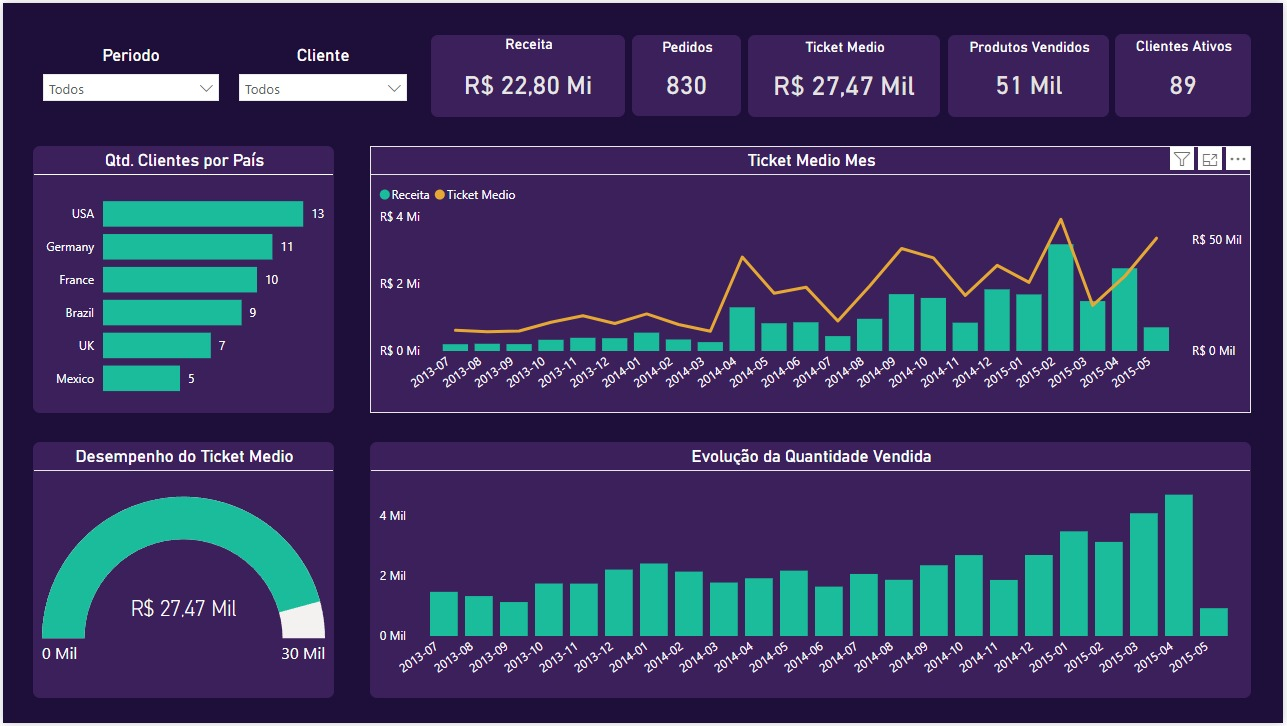

What the dashboard file says about the page in this screenshot:
{"tool":"powerbi","page":{"name":"Página 1","canvas":[1280,720],"ordinal":0},"visuals":[{"type":"card","title":"Receita","fields":{"Values":["order_details.Receita"]},"box":[428,32,194,82],"z":0},{"type":"card","title":"Ticket Medio","fields":{"Values":["order_details.Ticket Medio"]},"box":[745,32,192,82],"z":1000},{"type":"card","title":"Clientes Ativos","fields":{"Values":["orders.Clientes Ativos"]},"box":[1112,31,136,83],"z":2000},{"type":"slicer","title":"Periodo","fields":{"Values":["Calendario.Mes"]},"box":[30,42,196,63],"z":3000},{"type":"card","title":"Produtos Vendidos","fields":{"Values":["order_details.Quantidade"]},"box":[945.3,31.9,160.4,81.9],"z":4000},{"type":"slicer","title":"Cliente","fields":{"Values":["categories.categoryName"]},"box":[226,42,188,63],"z":5000},{"type":"card","title":"Pedidos","fields":{"Values":["orders.Pedidos"]},"box":[629,32,109,81],"z":6000},{"type":"barChart","title":"Qtd. Clientes por País","fields":{"Category":["customers.country"],"Y":["orders.Clientes Ativos"]},"box":[30,143,301,267],"z":7000},{"type":"lineStackedColumnComboChart","title":"Ticket Medio Mes","fields":{"Category":["Calendario.Mes"],"Y":["order_details.Receita"],"Y2":["order_details.Ticket Medio"]},"box":[367,143,881,267],"z":8000},{"type":"clusteredColumnChart","title":"Evolução da Quantidade Vendida","fields":{"Y":["order_details.Quantidade"],"Category":["orders.AnoMes"]},"box":[367,439,881,256],"z":9000},{"type":"gauge","title":"Desempenho do Ticket Medio","fields":{"MinValue":["Calendario.Min Gauge"],"MaxValue":["Calendario.Max Gauge"],"Y":["order_details.Ticket Medio"]},"box":[30,439,301,256],"z":10000}]}

Visuals, with their boxes in screenshot pixels (x1, y1, x2, y2), scaled from the page's 1280x720 canvas onto the 1287x726 screenshot:
"Receita" card: 430, 32, 625, 115
"Ticket Medio" card: 749, 32, 942, 115
"Clientes Ativos" card: 1118, 31, 1255, 115
"Periodo" slicer: 30, 42, 227, 106
"Produtos Vendidos" card: 950, 32, 1112, 115
"Cliente" slicer: 227, 42, 416, 106
"Pedidos" card: 632, 32, 742, 114
"Qtd. Clientes por País" barChart: 30, 144, 333, 413
"Ticket Medio Mes" lineStackedColumnComboChart: 369, 144, 1255, 413
"Evolução da Quantidade Vendida" clusteredColumnChart: 369, 443, 1255, 701
"Desempenho do Ticket Medio" gauge: 30, 443, 333, 701
